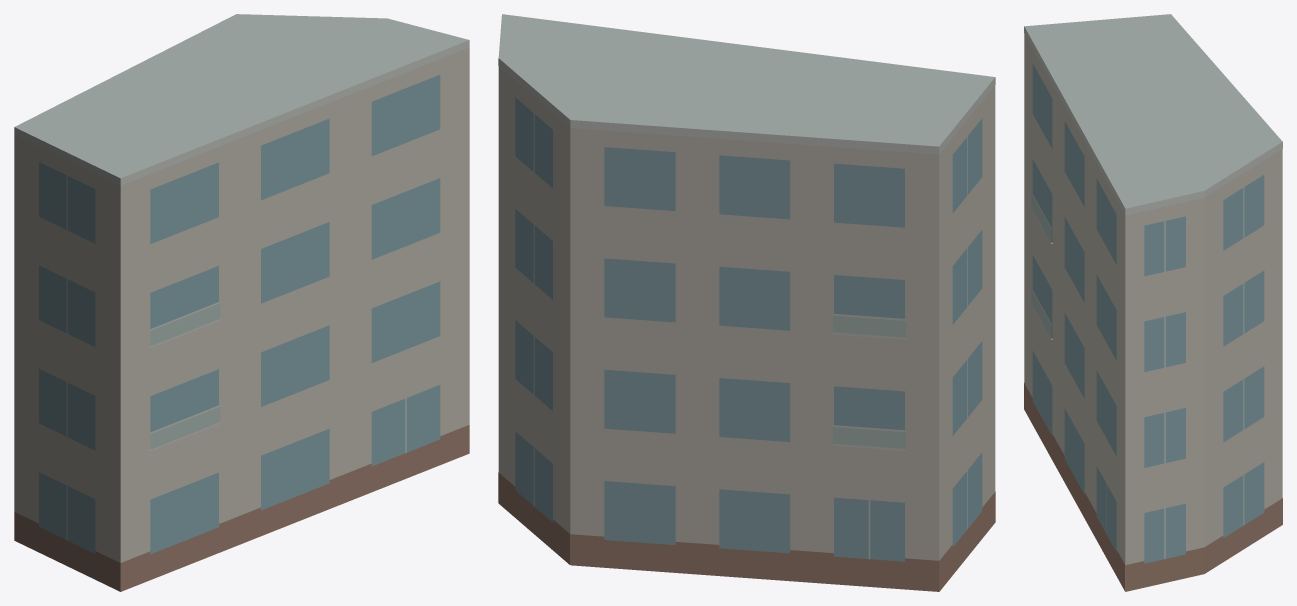
The model's file is survey-upis-32514696.glb.
3 renders of one model, left to right at view 1: azimuth 30°, elevation 25°; view 2: azimuth 150°, elevation 25°; view 3: azimuth 270°, elevation 25°, orthographic. The views are drawn at different scales.
Visible parts, largest first — view 1: survey-upis-32514696.tmp; view 2: survey-upis-32514696.tmp; view 3: survey-upis-32514696.tmp.
Boxes of the visible parts, x1,y1,x2,y2 form: survey-upis-32514696.tmp: (14, 14, 469, 591); survey-upis-32514696.tmp: (498, 14, 995, 591); survey-upis-32514696.tmp: (1024, 14, 1282, 591).
Size of the model in its own units: 14.91 by 13.67 by 8.37.
